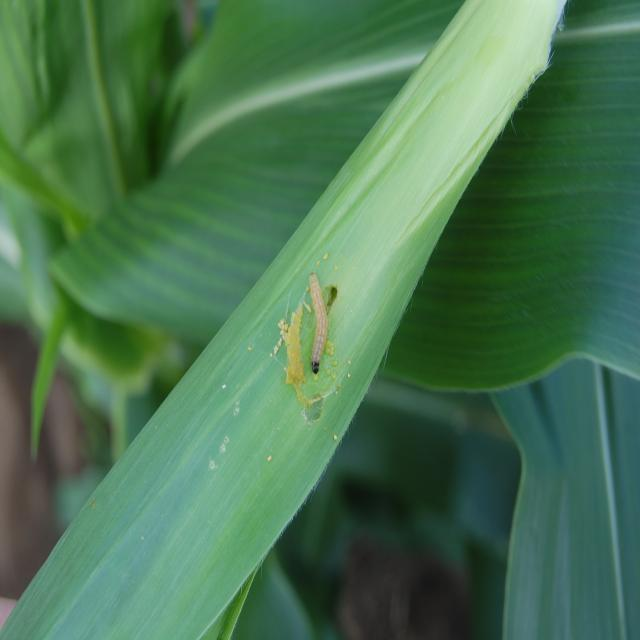cornborer-Larva-: (305, 267, 327, 374)
